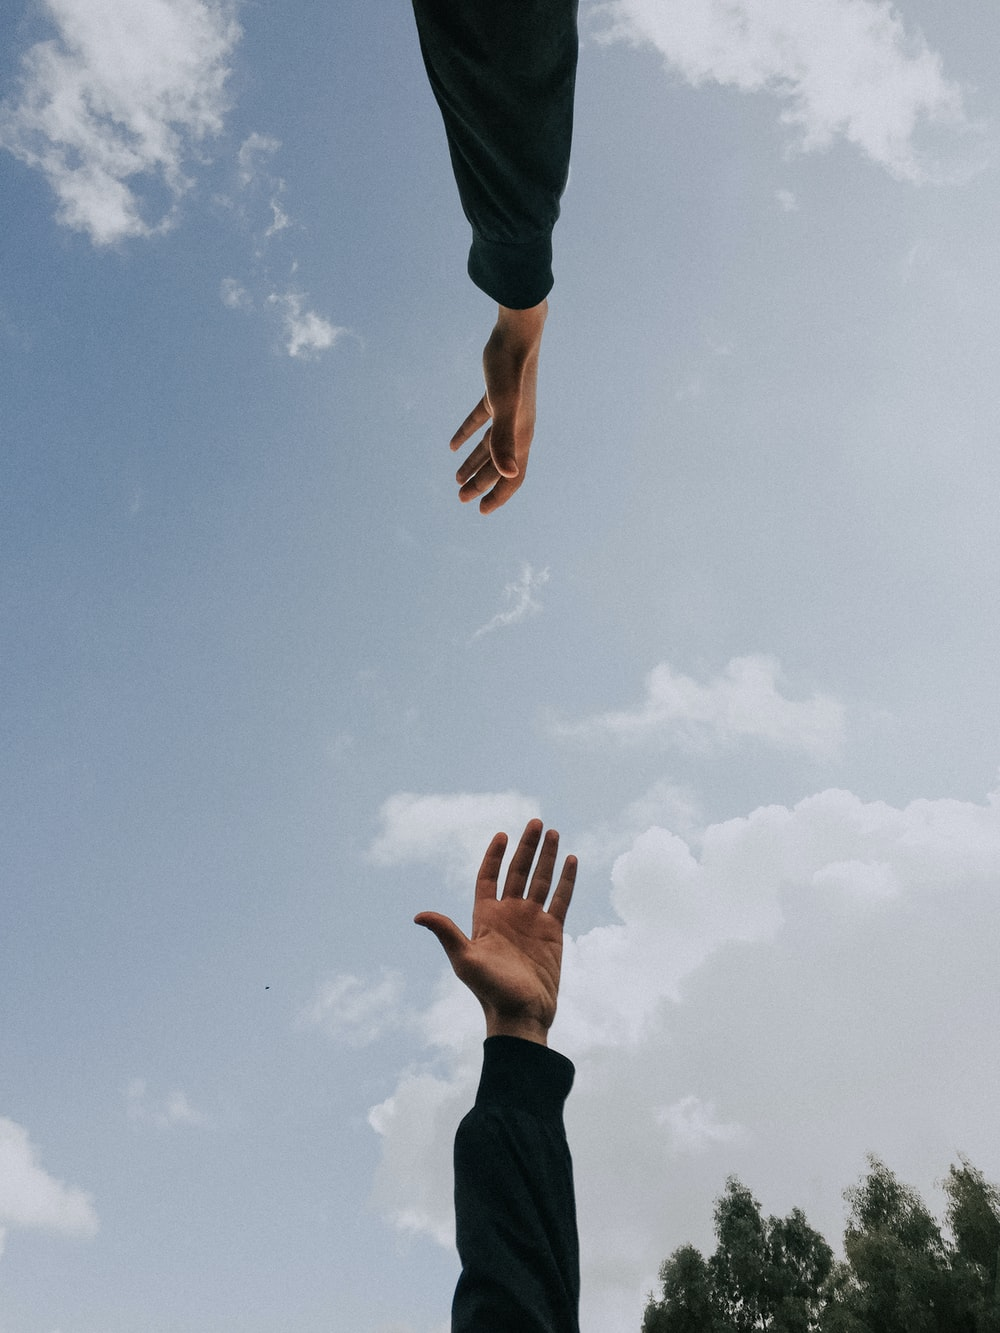move: (383, 782, 607, 1032), (439, 306, 551, 542)
